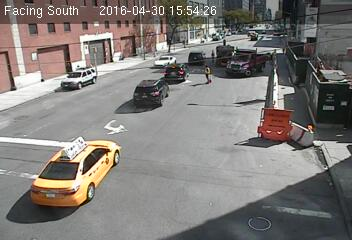neg: (6, 48, 30, 80), (30, 40, 47, 62), (33, 71, 48, 92), (56, 41, 68, 58)
pos: (199, 63, 216, 85), (208, 47, 220, 63)
